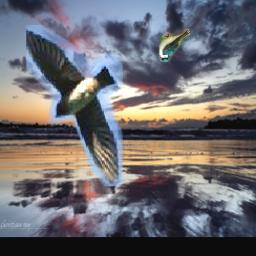Swallow: (26, 25, 123, 186), (158, 30, 190, 63)
